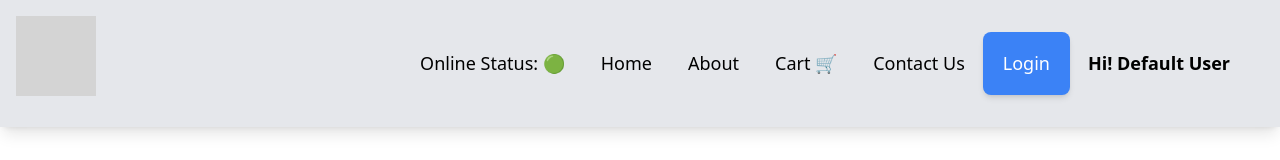
Test: Header Test Cases › Should change the Login button to Logout on click
Step 1. Click the button "Login" → click(1026, 64), box 983,32 -> 1070,95
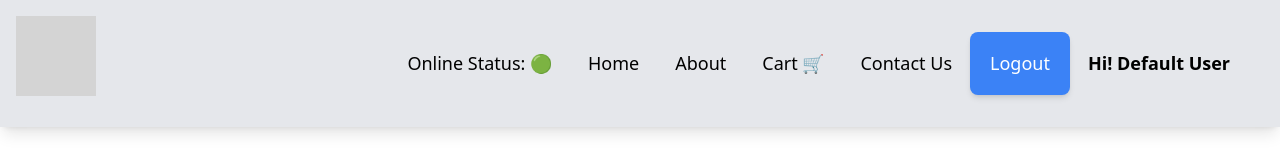
Check: the button "Logout" is shown, box 970,32 -> 1070,95
